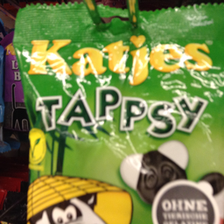candy: (14, 6, 224, 222)
